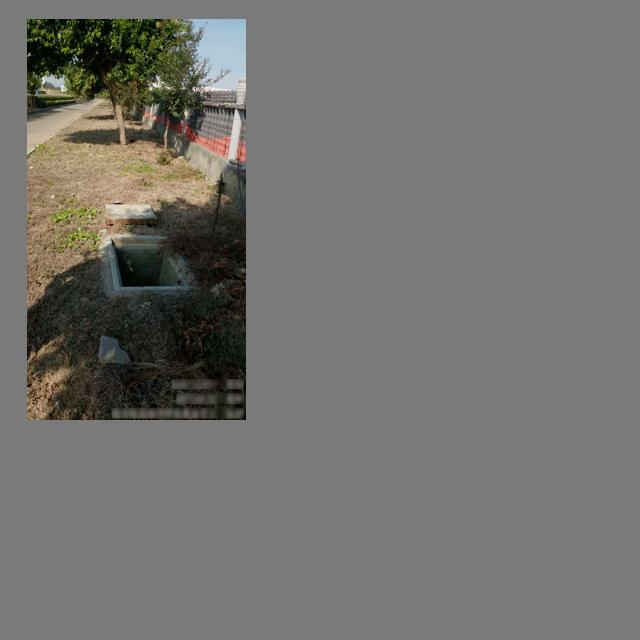lose: (107, 234, 202, 292)
